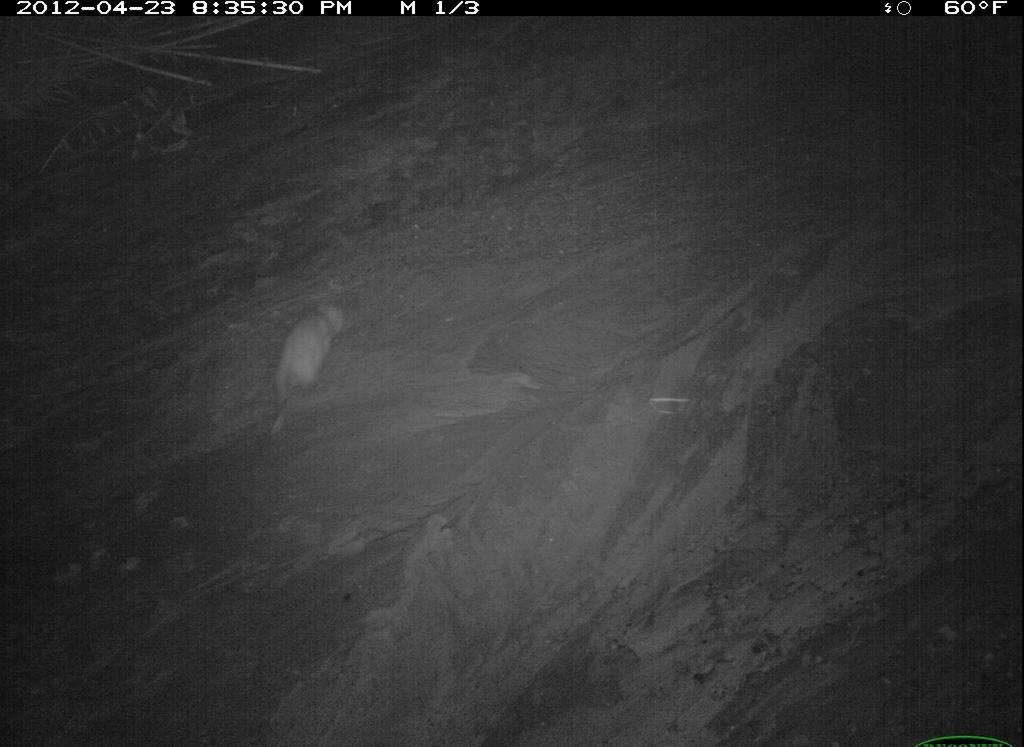opossum: (528, 587, 702, 747)
